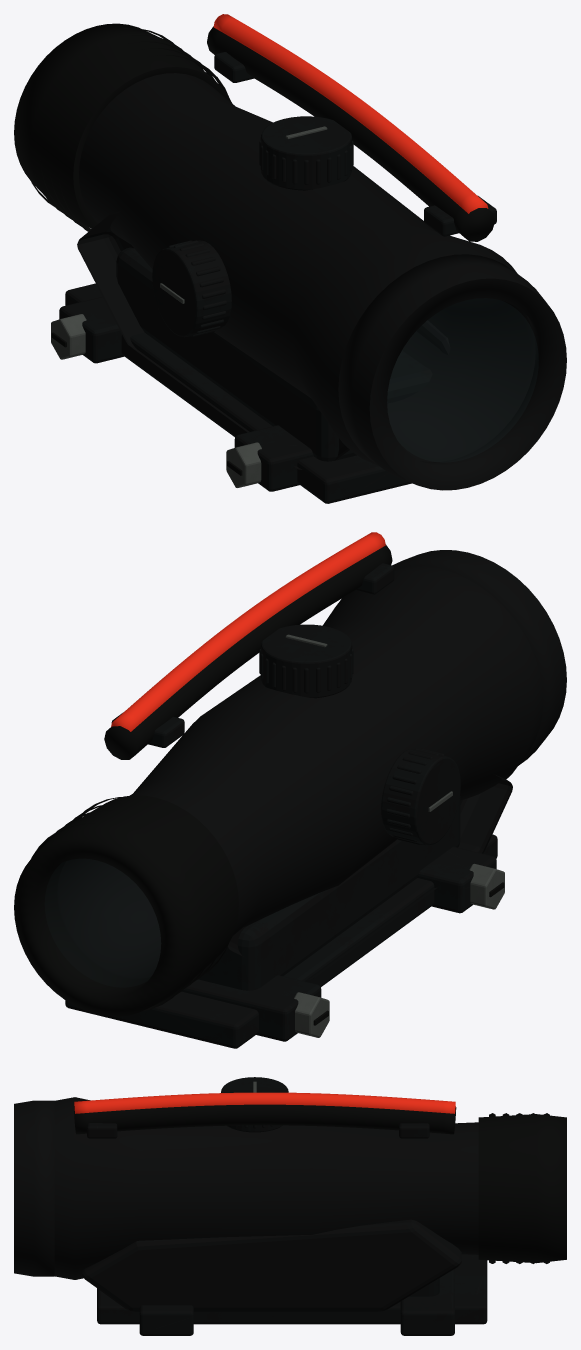
The model's file is ACOG_25_Module_Draft02.fbx.
The picture shows the model from 3 angles, top to bottom: view 1: azimuth 30°, elevation 25°; view 2: azimuth 150°, elevation 25°; view 3: azimuth 270°, elevation 25°; orthographic projection. The views are drawn at different scales.
Parts seen in each view (by area): view 1: ACOG_Optic_Anodized_R2_Standalone, ACOG_Rubber_Soot_R2_Standalone, ACOG_Optic_Fiber_Red_R2_Standalone, ACOG_Trim_BrushedSteel_R2_Standalone; view 2: ACOG_Optic_Anodized_R2_Standalone, ACOG_Rubber_Soot_R2_Standalone, ACOG_Optic_Fiber_Red_R2_Standalone, ACOG_Trim_BrushedSteel_R2_Standalone; view 3: ACOG_Optic_Anodized_R2_Standalone, ACOG_Rubber_Soot_R2_Standalone, ACOG_Optic_Fiber_Red_R2_Standalone.
Part boxes in pixels (x1,y1,x2,y2): ACOG_Optic_Anodized_R2_Standalone: (59, 52, 566, 503); ACOG_Rubber_Soot_R2_Standalone: (14, 23, 494, 475); ACOG_Optic_Fiber_Red_R2_Standalone: (213, 14, 488, 213); ACOG_Trim_BrushedSteel_R2_Standalone: (51, 126, 327, 487); ACOG_Optic_Anodized_R2_Standalone: (57, 550, 566, 1048); ACOG_Rubber_Soot_R2_Standalone: (14, 544, 504, 1025); ACOG_Optic_Fiber_Red_R2_Standalone: (111, 532, 385, 731); ACOG_Trim_BrushedSteel_R2_Standalone: (285, 634, 504, 1037); ACOG_Optic_Anodized_R2_Standalone: (14, 1077, 487, 1335); ACOG_Rubber_Soot_R2_Standalone: (74, 1104, 566, 1263); ACOG_Optic_Fiber_Red_R2_Standalone: (74, 1092, 455, 1113).
Bounding box in the file's own units: 6.33 × 7.27 × 16.3.
